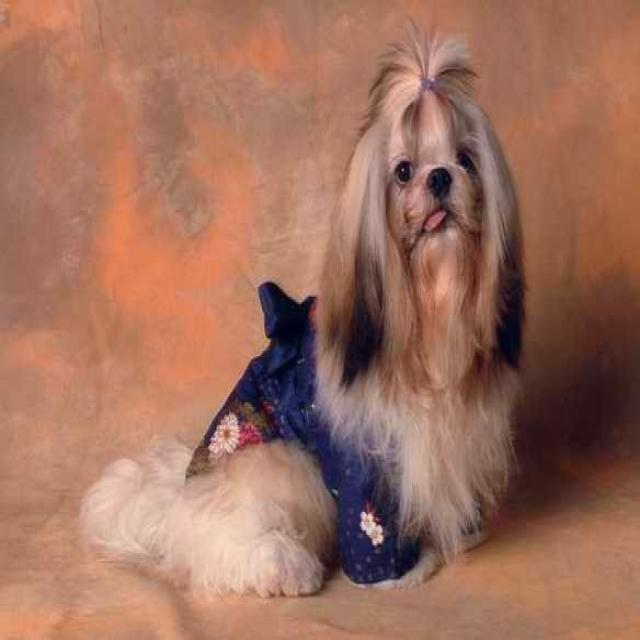shih_tzu: (83, 18, 525, 601)
